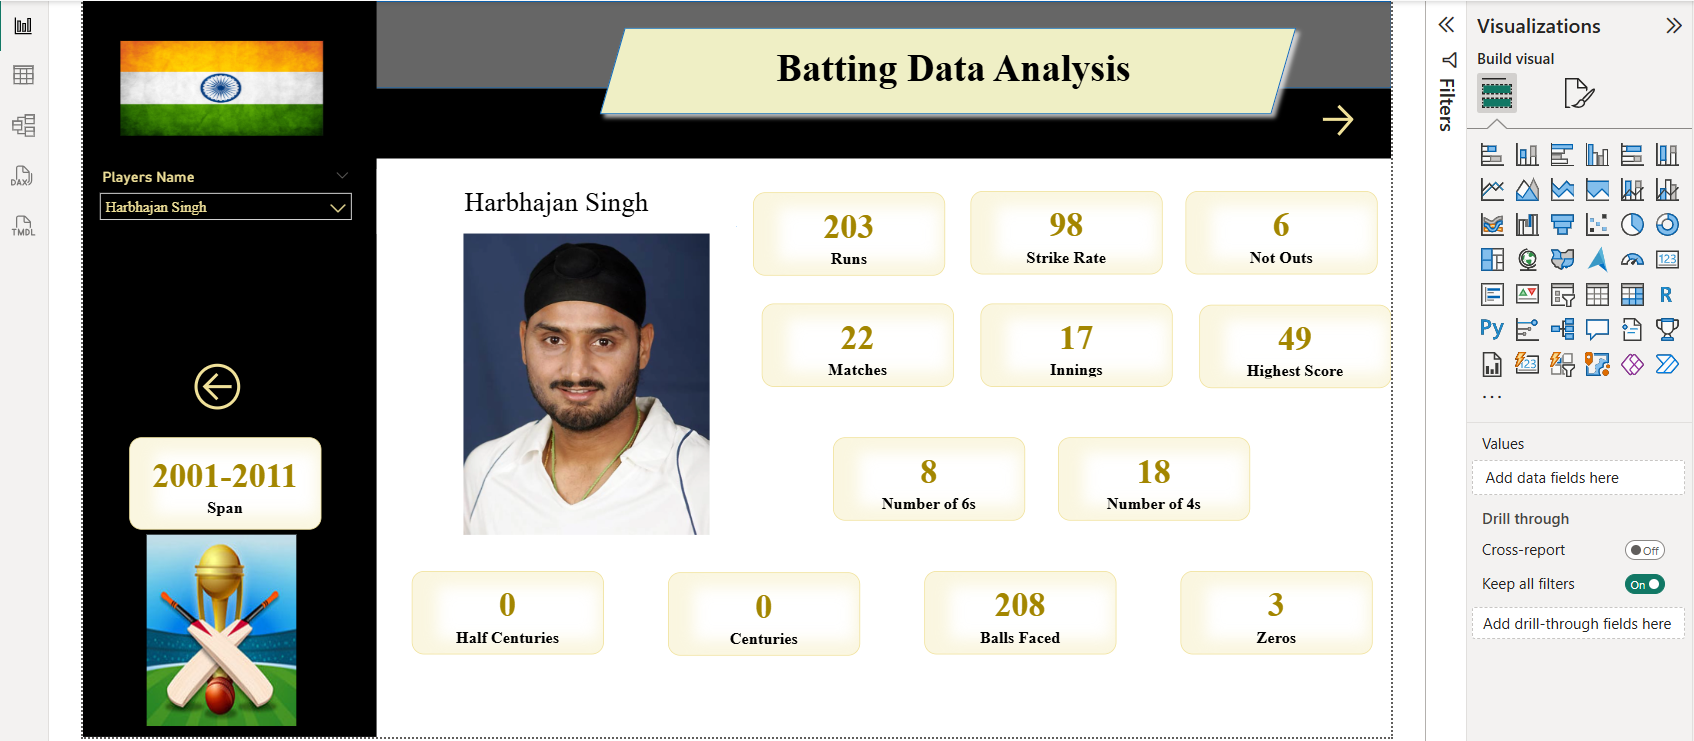

The page's visual inventory and layout, read from the dashboard file:
{"tool":"powerbi","page":{"name":"Batting ","canvas":[1280,720],"ordinal":1},"visuals":[{"type":"textbox","box":[0,145.5,287.4,574.7],"z":0},{"type":"tableEx","fields":{"Values":["battingimageurl.imageurlbatting"]},"box":[331.4,187.1,324.1,344.8],"z":1000},{"type":"card","fields":{"Values":["Min(Nametable_batting.Players Name)"]},"box":[287.4,165.1,352.2,62.4],"z":2000},{"type":"card","fields":{"Values":["Min(Cricket Data batting.Span)"]},"box":[45.2,426.8,188.3,90.5],"z":3000},{"type":"shape","box":[0,0,1280.3,85.6],"z":4000},{"type":"shape","box":[0,0,287.4,94.2],"z":5000},{"type":"shape","box":[0,85.6,1280.3,68.5],"z":6000},{"type":"shape","box":[496.5,17.1,699.5,102.7],"z":7000},{"type":"textbox","box":[576,39.1,551.5,57.5],"z":8000},{"type":"image","box":[31.8,34.2,207.9,102.7],"z":9000},{"type":"textbox","box":[697,509,188,211],"z":10000},{"type":"actionButton","box":[102.7,348.5,61.1,57.5],"z":11000},{"type":"actionButton","box":[1206.9,96.6,59.9,40.4],"z":12000},{"type":"card","fields":{"Values":["Sum(Cricket Data batting.NO)"]},"box":[1078.5,185.9,188.3,81.9],"z":13000},{"type":"card","fields":{"Values":["Sum(Cricket Data batting.Inns)"]},"box":[878,295.9,188.3,81.9],"z":14000},{"type":"card","fields":{"Values":["Min(Cricket Data batting.Runs)"]},"box":[655.4,187.1,188.3,81.9],"z":15000},{"type":"card","fields":{"Values":["Sum(Cricket Data batting.Mat)"]},"box":[664,295.9,188.3,81.9],"z":16000},{"type":"card","fields":{"Values":["Sum(Cricket Data batting.SR)"]},"box":[868.2,185.9,188.3,81.9],"z":17000},{"type":"image","box":[57.5,517.3,156.5,196.9],"z":18000},{"type":"card","fields":{"Values":["Min(Cricket Data batting.HS)"]},"box":[1091.7,297.1,188.3,81.9],"z":19000},{"type":"card","fields":{"Values":["Sum(Cricket Data batting.BF)"]},"box":[823,557.6,188.3,81.9],"z":20000},{"type":"card","fields":{"Values":["Sum(Cricket Data batting.4s)"]},"box":[953.8,426.8,188.3,81.9],"z":21000},{"type":"card","fields":{"Values":["Sum(Cricket Data batting.6s)"]},"box":[733.7,426.8,188.3,81.9],"z":22000},{"type":"card","fields":{"Values":["Sum(Cricket Data batting.50)"]},"box":[321.6,557.6,188.3,81.9],"z":23000},{"type":"card","fields":{"Values":["Sum(Cricket Data batting.100)"]},"box":[572.3,558.8,188.3,81.9],"z":24000},{"type":"card","fields":{"Values":["Sum(Cricket Data batting.0)"]},"box":[1073.6,557.6,188.3,81.9],"z":25000},{"type":"slicer","fields":{"Values":["Nametable_batting.Players Name"]},"box":[6.1,159,266.6,77],"z":26000}]}

Visuals, with their boxes on the page's 1280x720 design canvas (x1, y1, x2, y2). These are canvas units, not pixel positions in the 1694x741 screenshot, which may show the page scaled, cropped or inside an application window:
textbox: [0,146,287,720]
tableEx - battingimageurl.imageurlbatting: [331,187,656,532]
card - Min(Nametable_batting.Players Name): [287,165,640,228]
card - Min(Cricket Data batting.Span): [45,427,234,517]
shape: [0,0,1280,86]
shape: [0,0,287,94]
shape: [0,86,1280,154]
shape: [496,17,1196,120]
textbox: [576,39,1128,97]
image: [32,34,240,137]
textbox: [697,509,885,720]
actionButton: [103,348,164,406]
actionButton: [1207,97,1267,137]
card - Sum(Cricket Data batting.NO): [1078,186,1267,268]
card - Sum(Cricket Data batting.Inns): [878,296,1066,378]
card - Min(Cricket Data batting.Runs): [655,187,844,269]
card - Sum(Cricket Data batting.Mat): [664,296,852,378]
card - Sum(Cricket Data batting.SR): [868,186,1056,268]
image: [58,517,214,714]
card - Min(Cricket Data batting.HS): [1092,297,1280,379]
card - Sum(Cricket Data batting.BF): [823,558,1011,640]
card - Sum(Cricket Data batting.4s): [954,427,1142,509]
card - Sum(Cricket Data batting.6s): [734,427,922,509]
card - Sum(Cricket Data batting.50): [322,558,510,640]
card - Sum(Cricket Data batting.100): [572,559,761,641]
card - Sum(Cricket Data batting.0): [1074,558,1262,640]
slicer - Nametable_batting.Players Name: [6,159,273,236]
